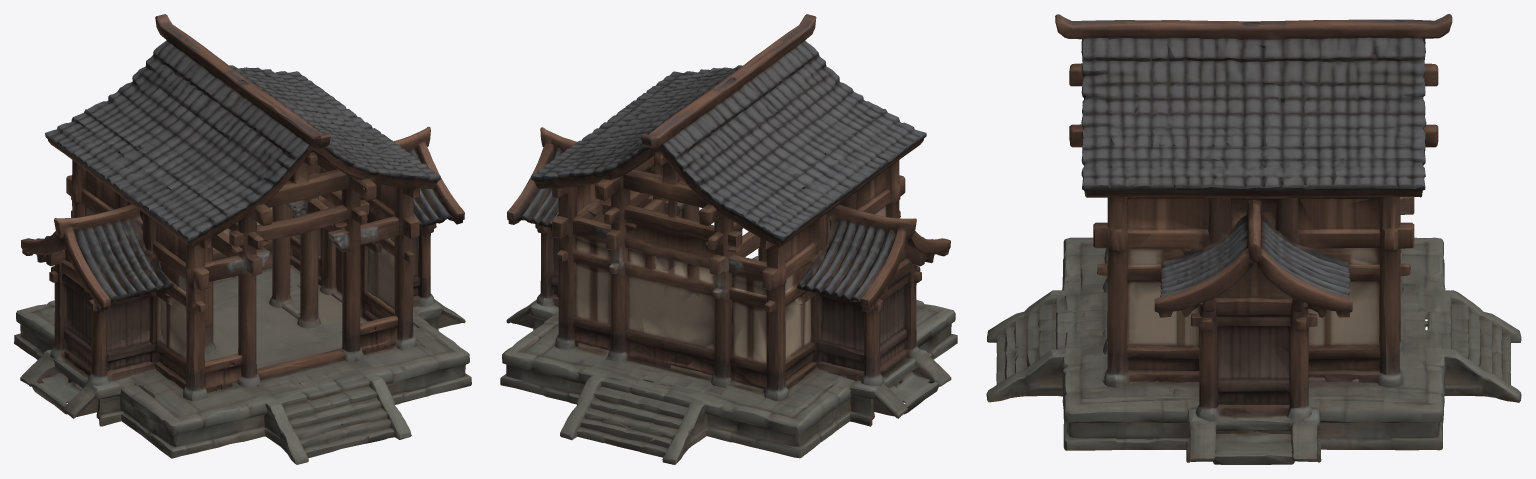
File: temple-shell-turbo.glb
The picture shows the model from 3 angles, left to right: view 1: azimuth 30°, elevation 25°; view 2: azimuth 150°, elevation 25°; view 3: azimuth 270°, elevation 25°; orthographic projection. The views are drawn at different scales.
Parts seen in each view (by area): view 1: world; view 2: world; view 3: world.
Boxes of the visible parts, box(x1,y1,x2,y2) form: world: box(14, 14, 471, 464); world: box(500, 14, 957, 464); world: box(986, 14, 1521, 464).
Bounding box in the file's own units: 8 × 5.74 × 7.88.
1 material, 1 textured.
